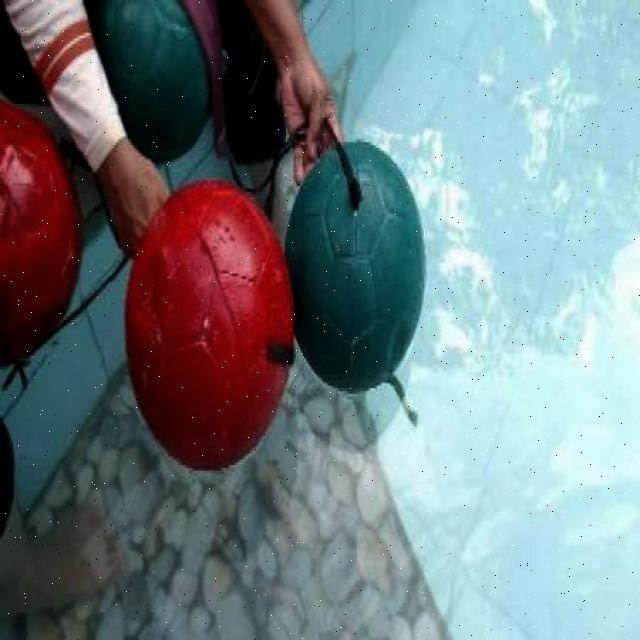buoy: (124, 180, 296, 470), (283, 138, 425, 392), (2, 98, 82, 356)
